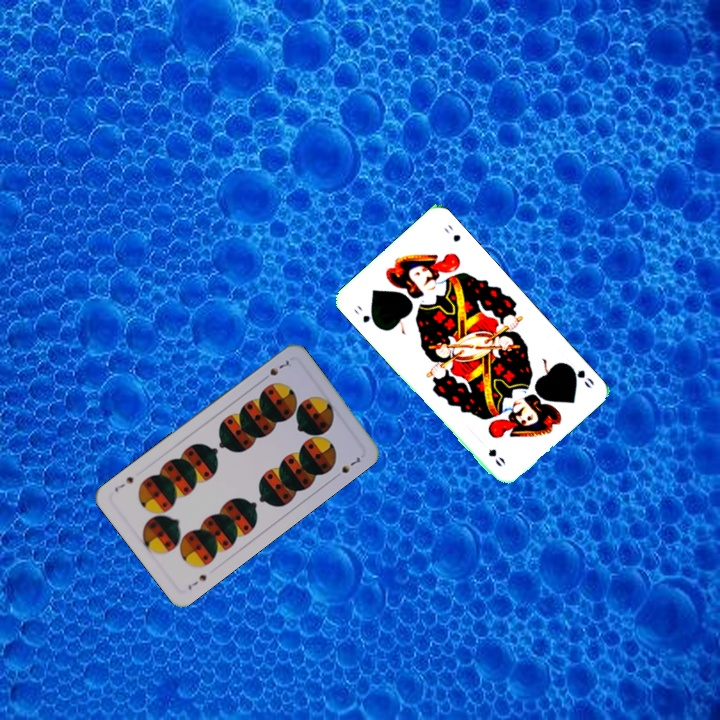GO: (562, 360, 597, 391), (350, 301, 381, 330)
S7: (258, 356, 292, 383), (184, 570, 209, 593)
